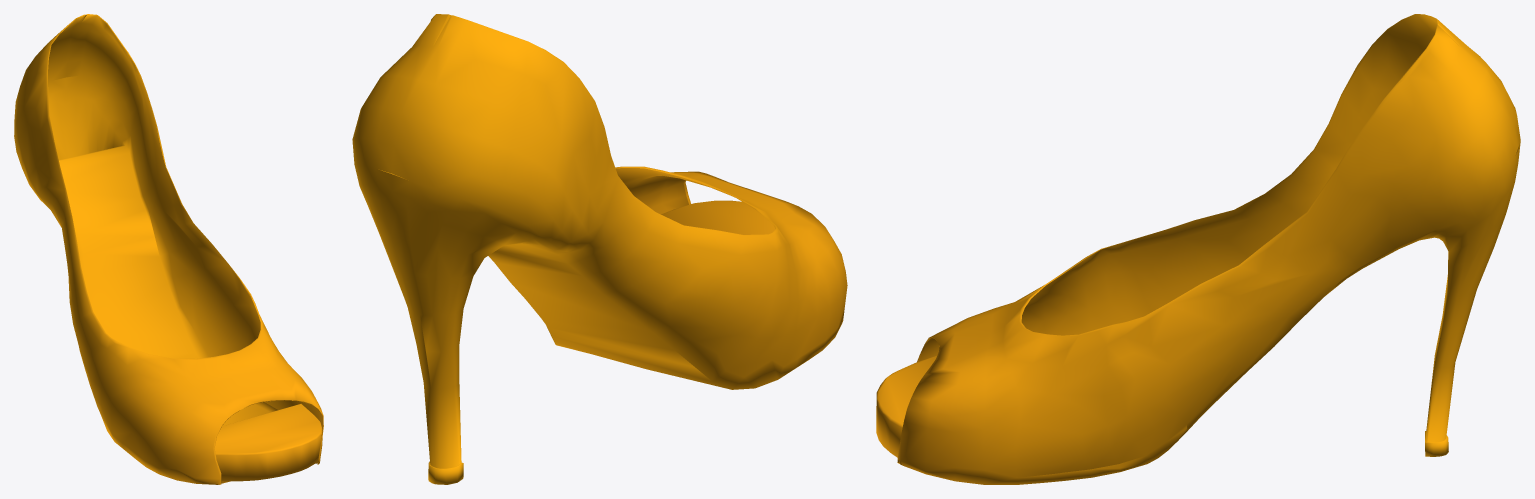
File: shoe_1.fbx
3 views of the same model, side by side, from view 1: azimuth 30°, elevation 25°; view 2: azimuth 150°, elevation 25°; view 3: azimuth 270°, elevation 25° (orthographic). The views are drawn at different scales.
Parts seen in each view (by area): view 1: shoe_1; view 2: shoe_1; view 3: shoe_1.
Part boxes in pixels (x1=…): shoe_1: x1=14, y1=14, x2=323, y2=484; shoe_1: x1=352, y1=14, x2=847, y2=484; shoe_1: x1=876, y1=14, x2=1520, y2=484.
Size of the model in its own units: 7.12 by 13.08 by 17.97.
1 material, 1 textured.
